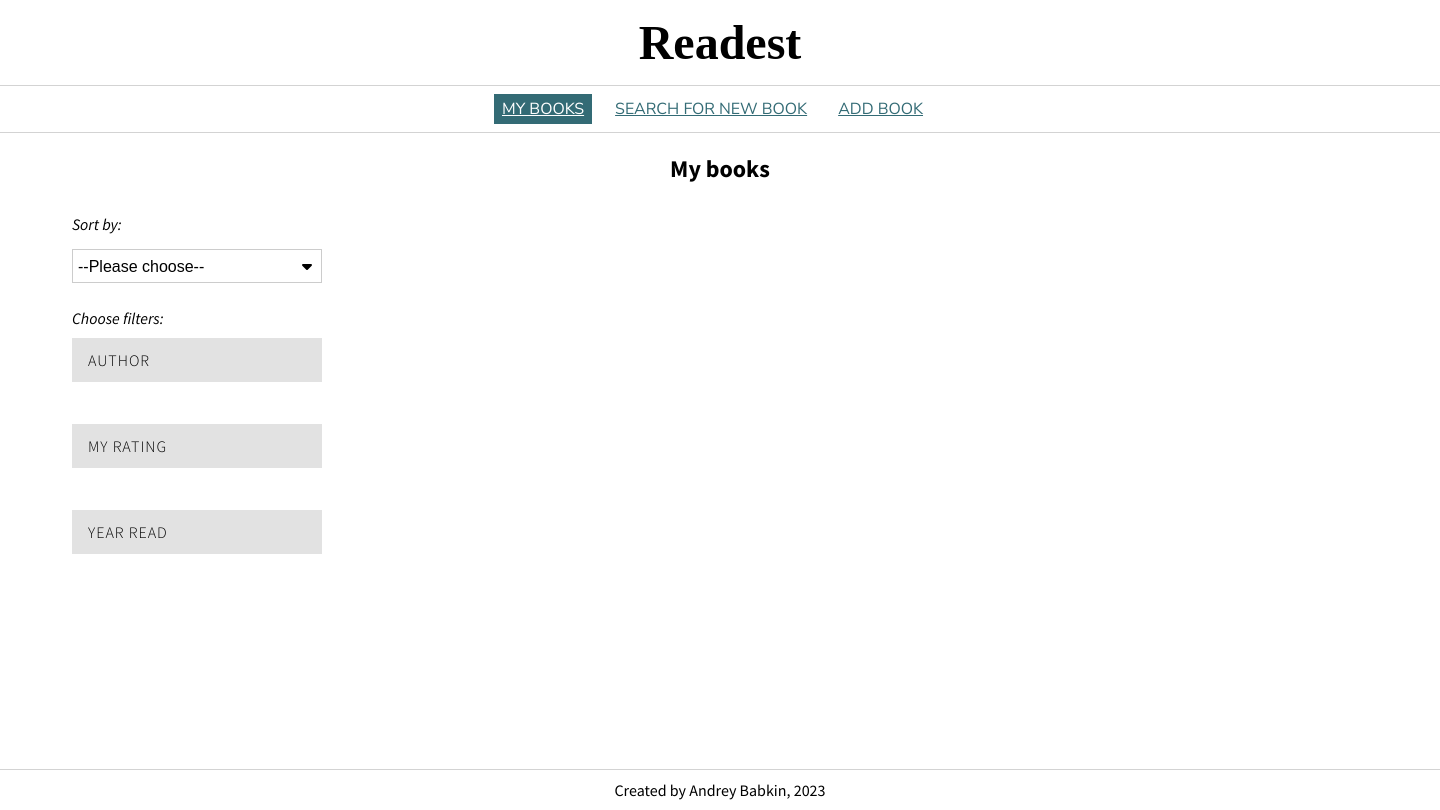
Test: Search book functionality › default search by author is working
Click the link "Search for new Book" at [711, 109], box [607, 94, 815, 124]
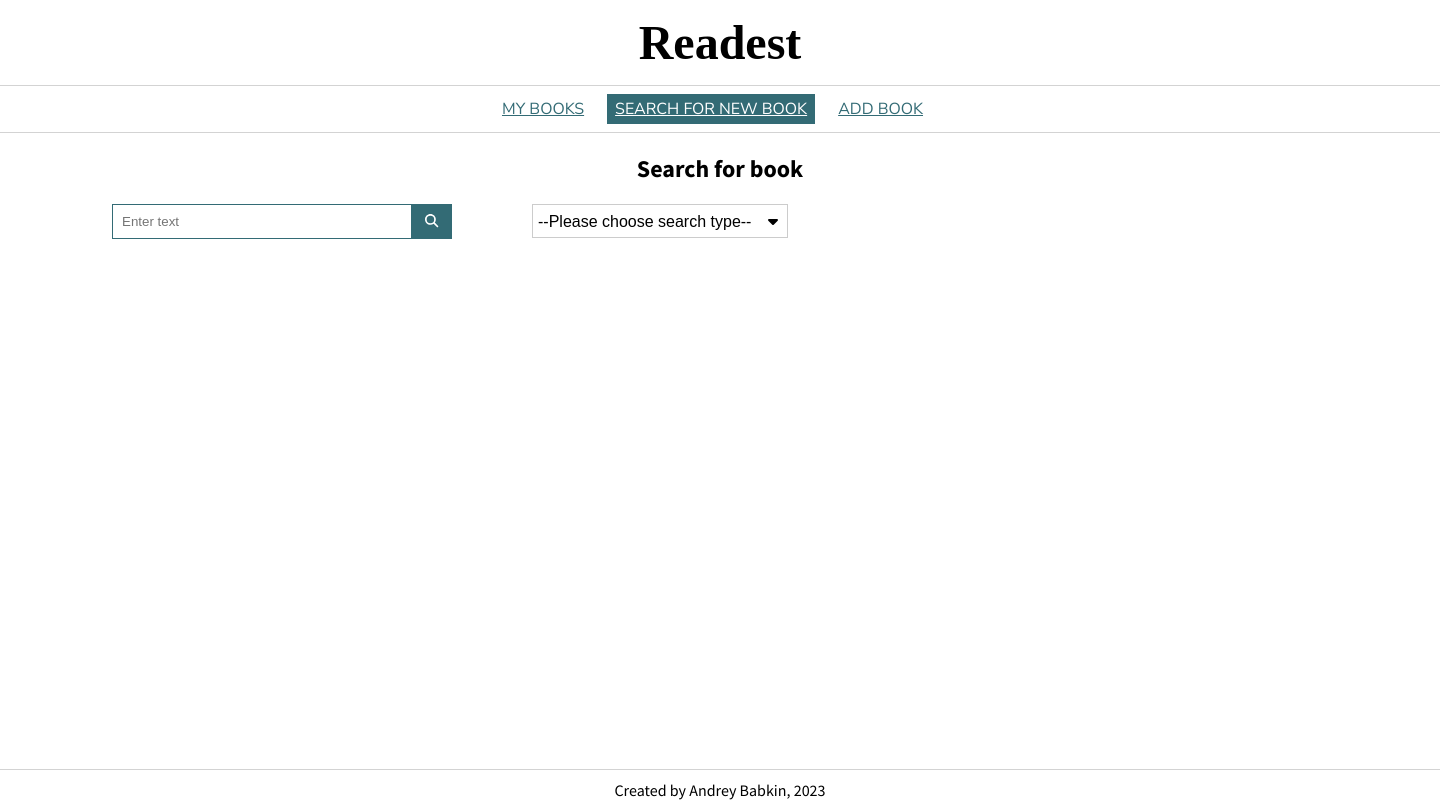
Type "City of Blades" into the field named "search-input" at [262, 222], box [112, 204, 412, 239]
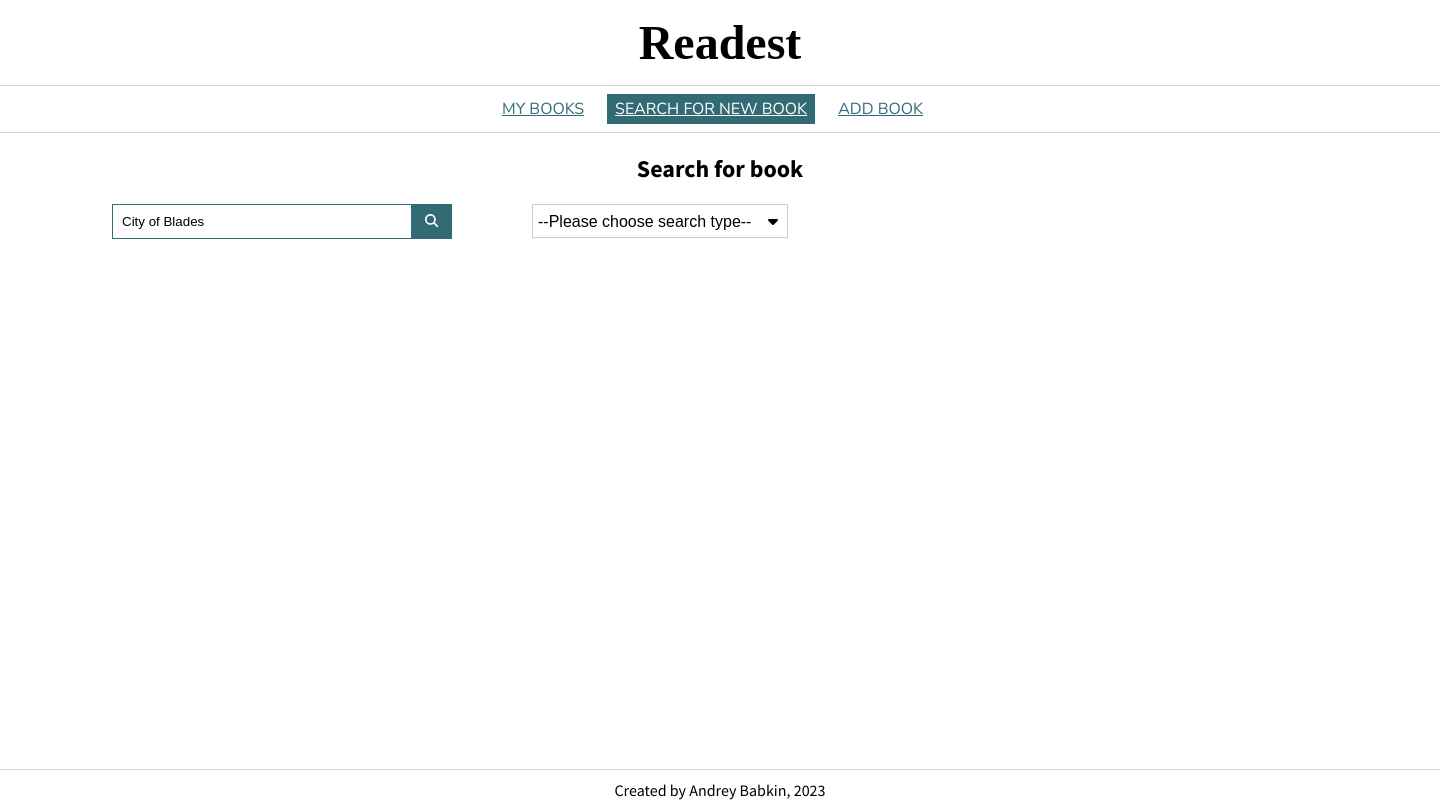
Result: the button named "search" is shown
Click the button named "search" at [432, 222], box [412, 204, 452, 239]
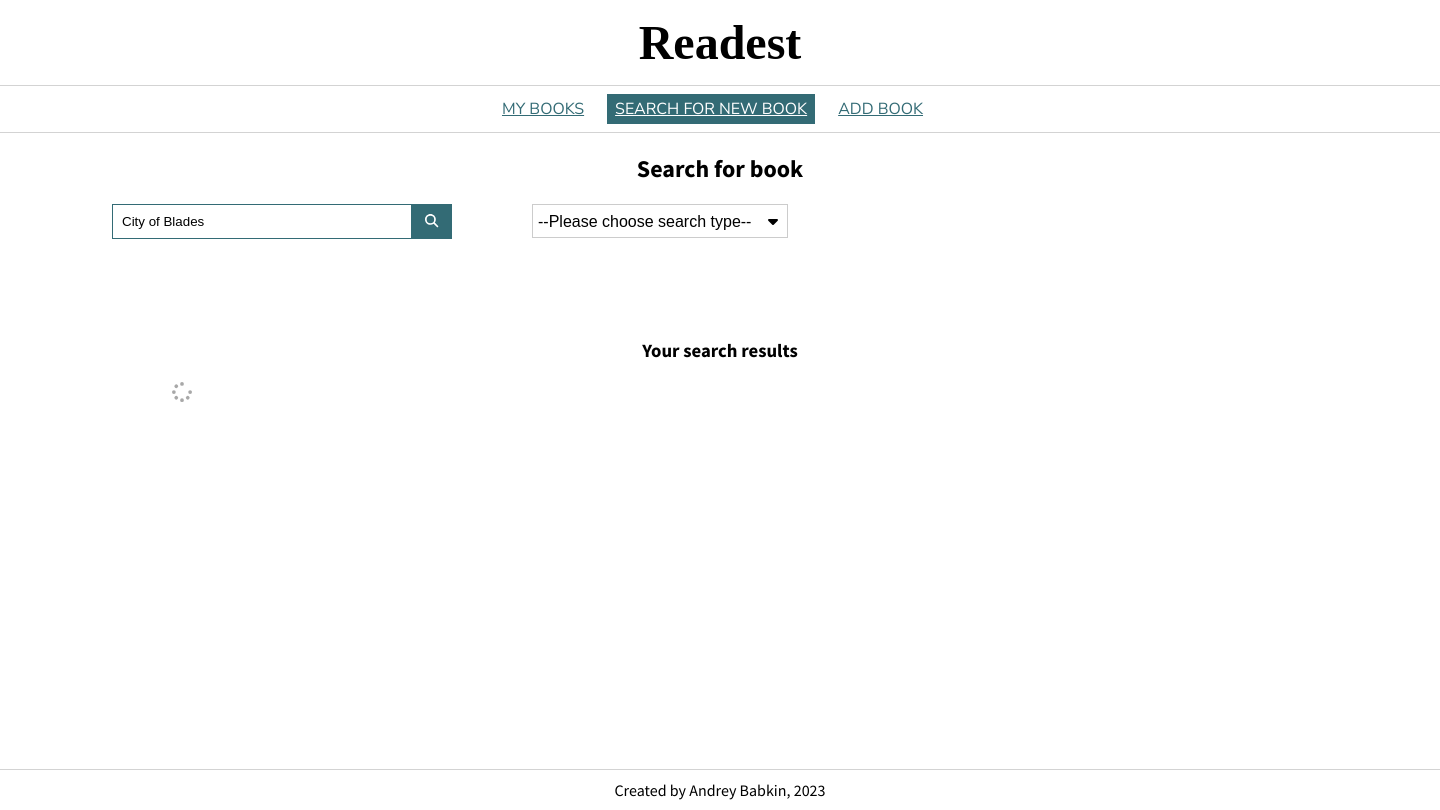
Result: the heading "Your search results" is shown at [642, 339, 798, 362]
Result: the element with test id "spinner" is shown at [172, 382, 192, 404]
